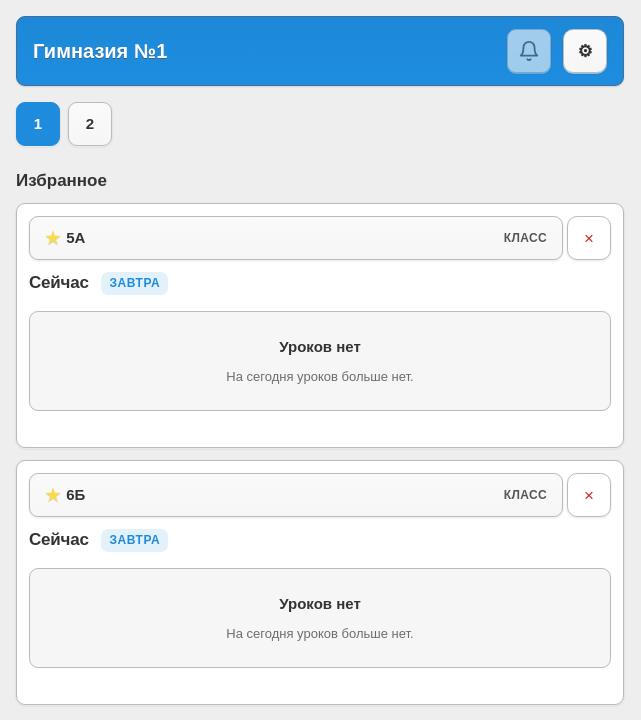
Test: App shell › notification bell › hints «Выберите класс» only after tapping the bell when no class is selected
Expected: the text "Выберите класс" is not shown
Step 1. Click the button named "Уведомления" → (529, 51), box [507, 29, 551, 73]
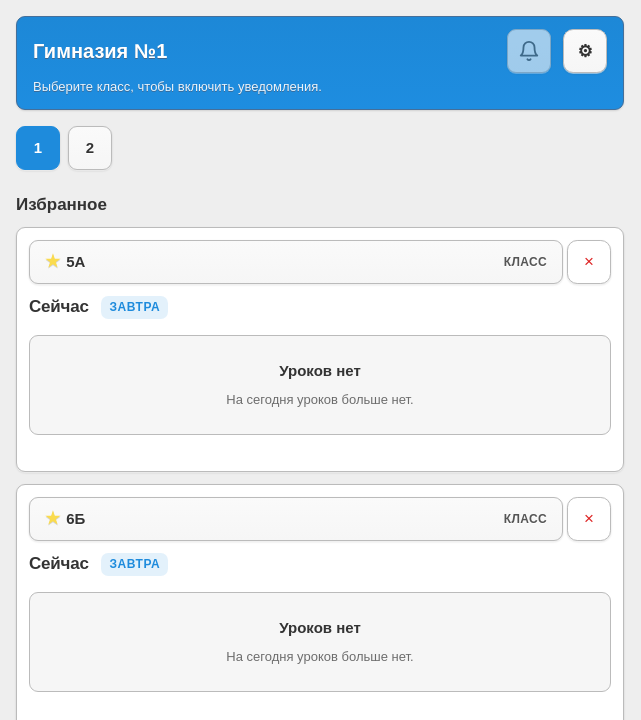
Expected: the text "Выберите класс, чтобы включить уведомления." is shown, [33, 79, 322, 94]
